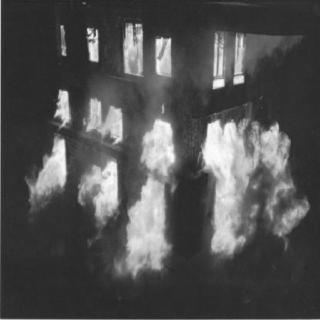Fire: (20, 21, 310, 283)
